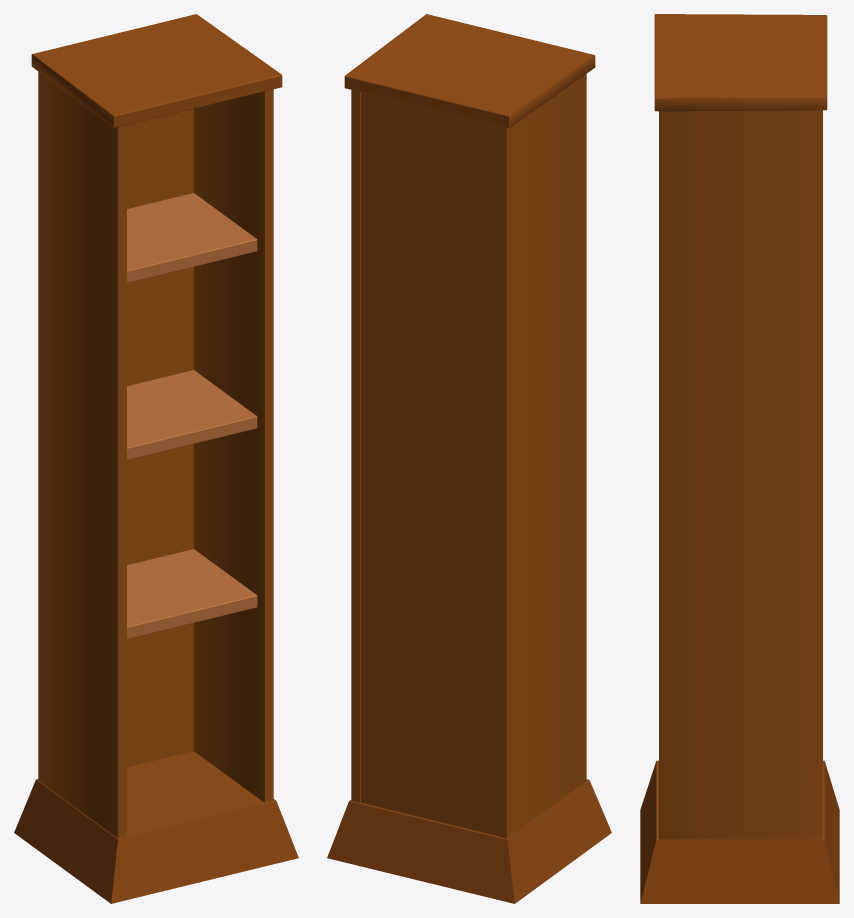
File: Shelf4.glb
3 renders of one model, left to right at view 1: azimuth 30°, elevation 25°; view 2: azimuth 150°, elevation 25°; view 3: azimuth 270°, elevation 25°, orthographic. The views are drawn at different scales.
Visible parts, largest first — view 1: Shelf4; view 2: Shelf4; view 3: Shelf4.
Part boxes in pixels (left/top/right/bottom): Shelf4: left=14, top=14, right=298, bottom=903; Shelf4: left=327, top=14, right=611, bottom=903; Shelf4: left=640, top=14, right=839, bottom=903.
Bounding box in the file's own units: 0.4751 × 1.89 × 0.4257.
Materials: 1 (1 with a texture image).
